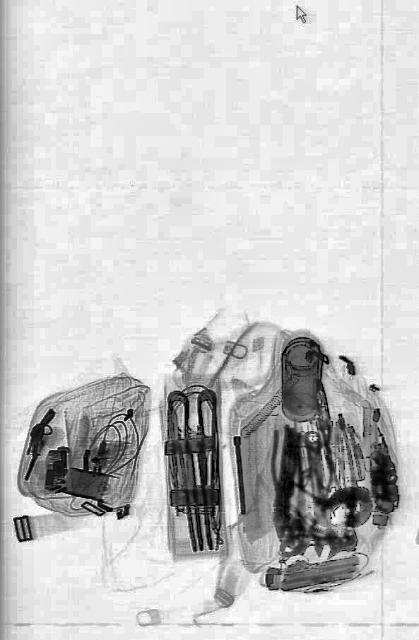Wrench: (300, 427, 338, 563)
